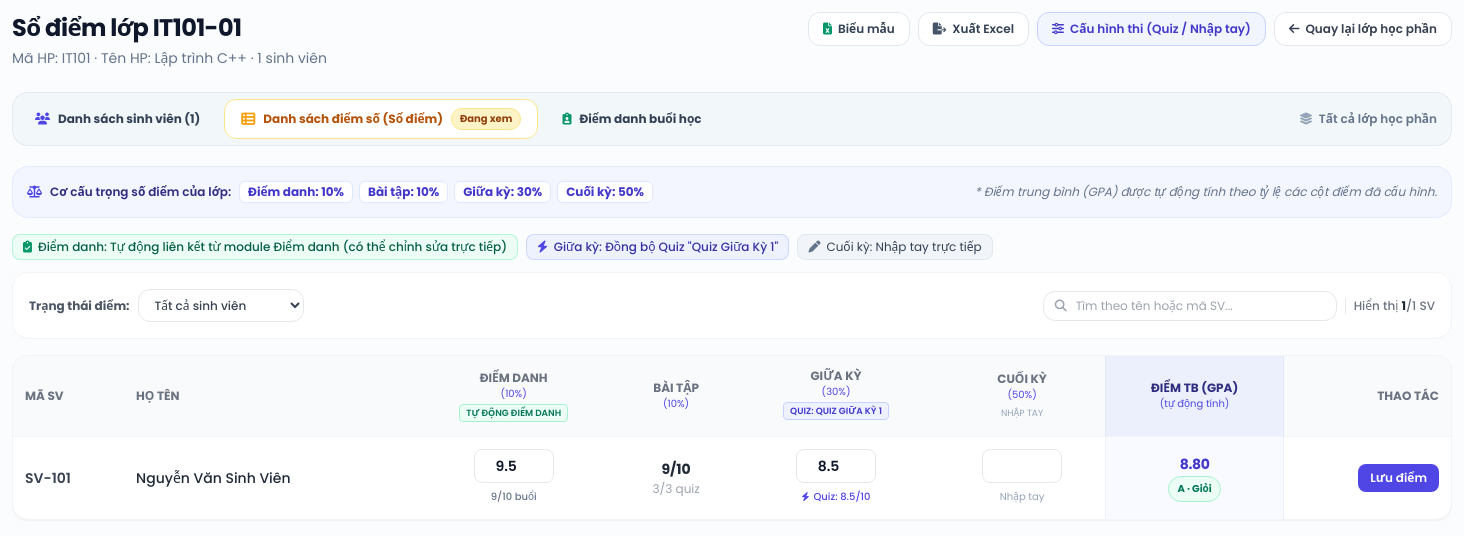
Test: TeacherClassGradebook - Smart Grades & Syncing › renders auto-synced midterm grade from linked Quiz and shows override indicator when edited
Expected: the text "Nguyễn Văn Sinh Viên" is shown, 124,436 -> 408,519
Expected: the text "Quiz: 8.5/10" is shown, 802,489 -> 870,504
// Lecturer types 9.0 override
Replace the text in the number field named "Giữa kỳ - Nguyễn Văn Sinh Viên" with "9" at (836, 466), box 796,449 -> 876,483
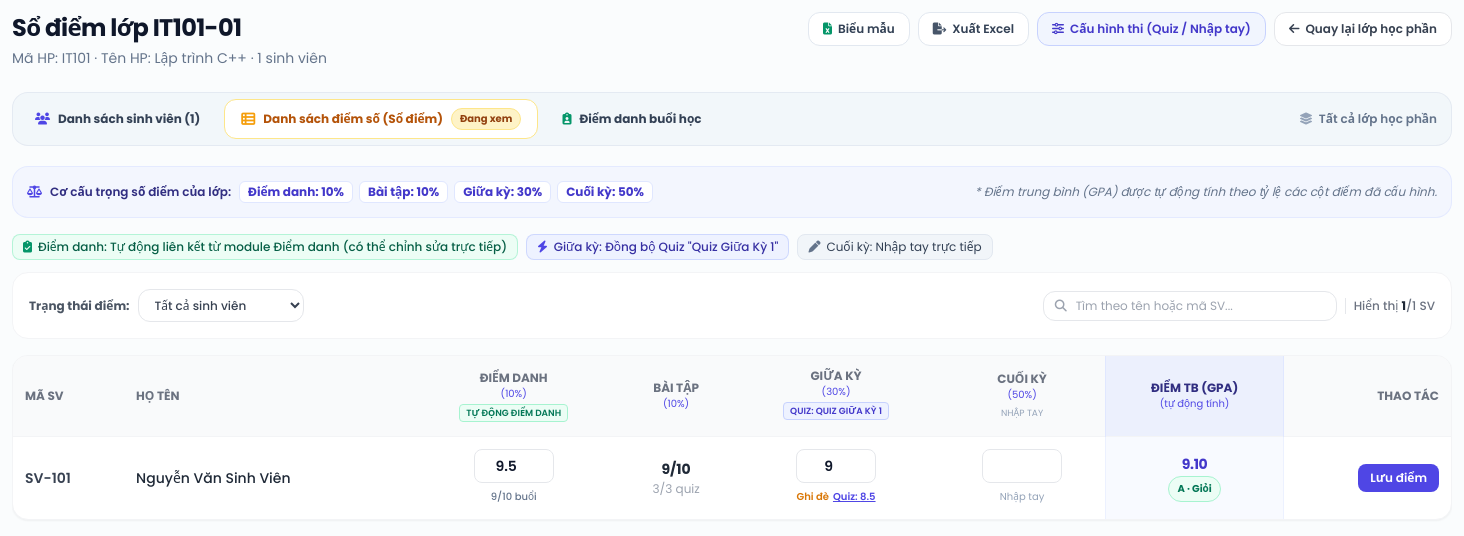
Click the button "Quiz: 8.5" at (854, 497), box 833,487 -> 876,507
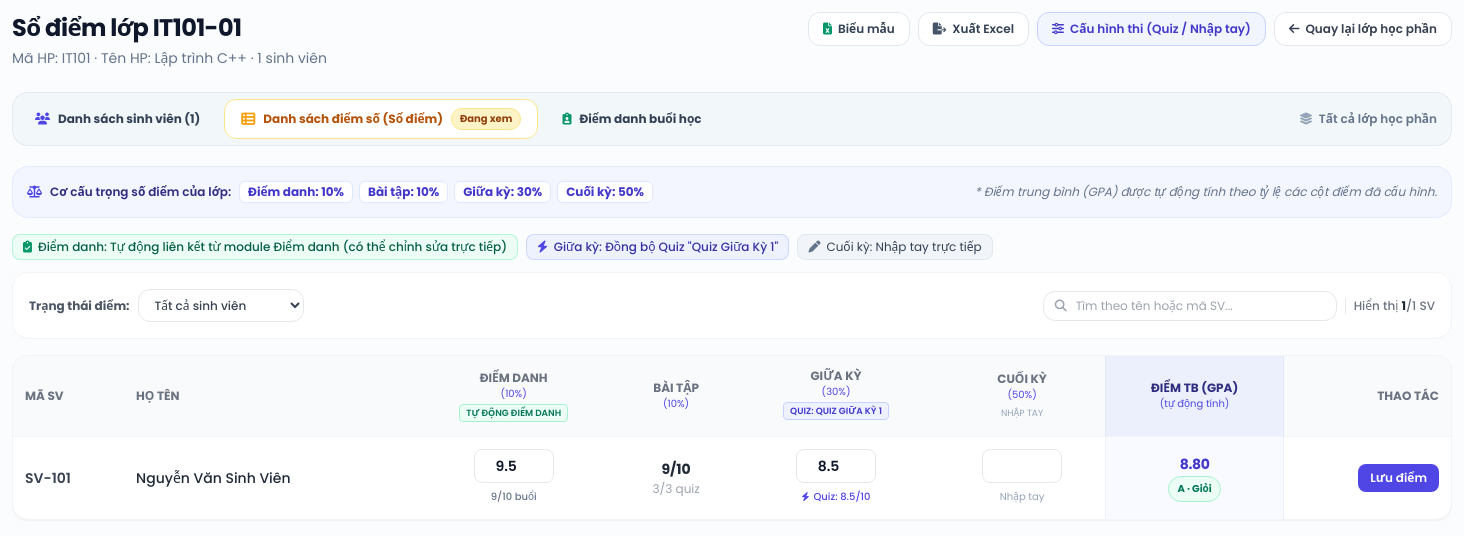
Result: the number field named "Giữa kỳ - Nguyễn Văn Sinh Viên" holds "8.5" at 796,449 -> 876,483
